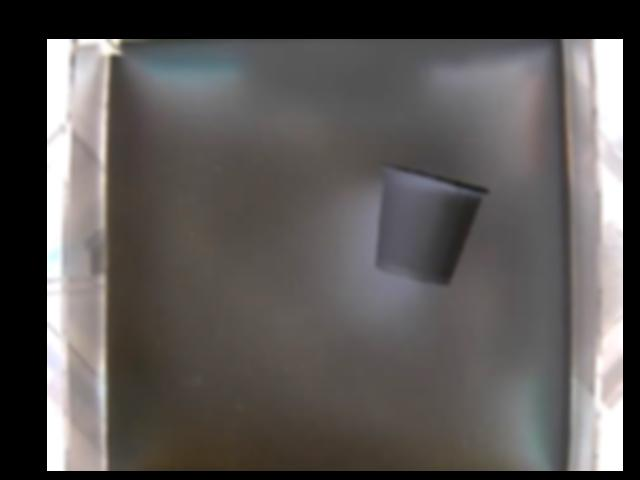Cup: (371, 165, 489, 287)
